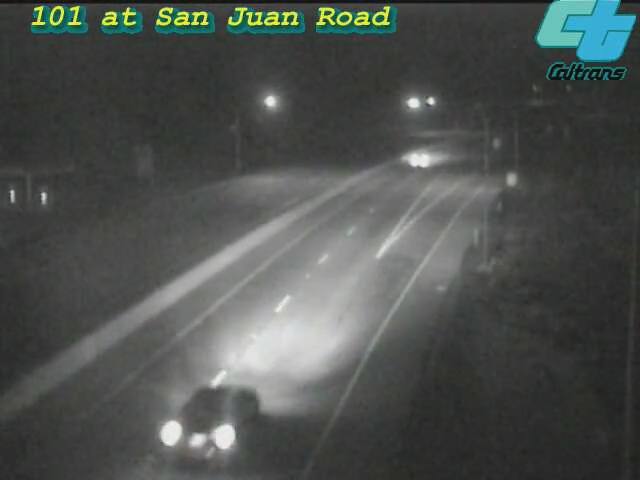vehicle: (366, 105, 476, 215), (156, 365, 266, 475)
